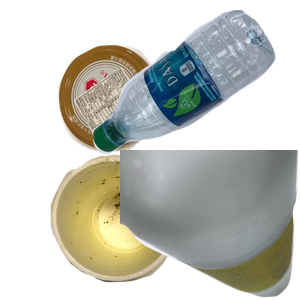glass: (120, 150, 300, 300)
metal: (56, 43, 211, 187)
plastic: (90, 10, 300, 156)
trash: (48, 152, 219, 300)
